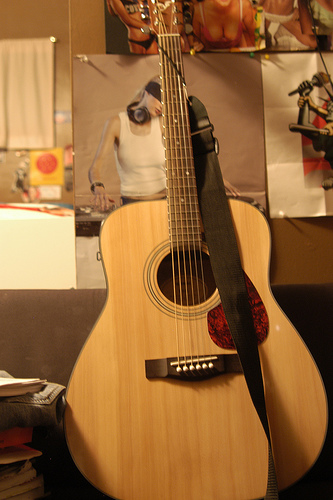guitar: (58, 1, 328, 500)
